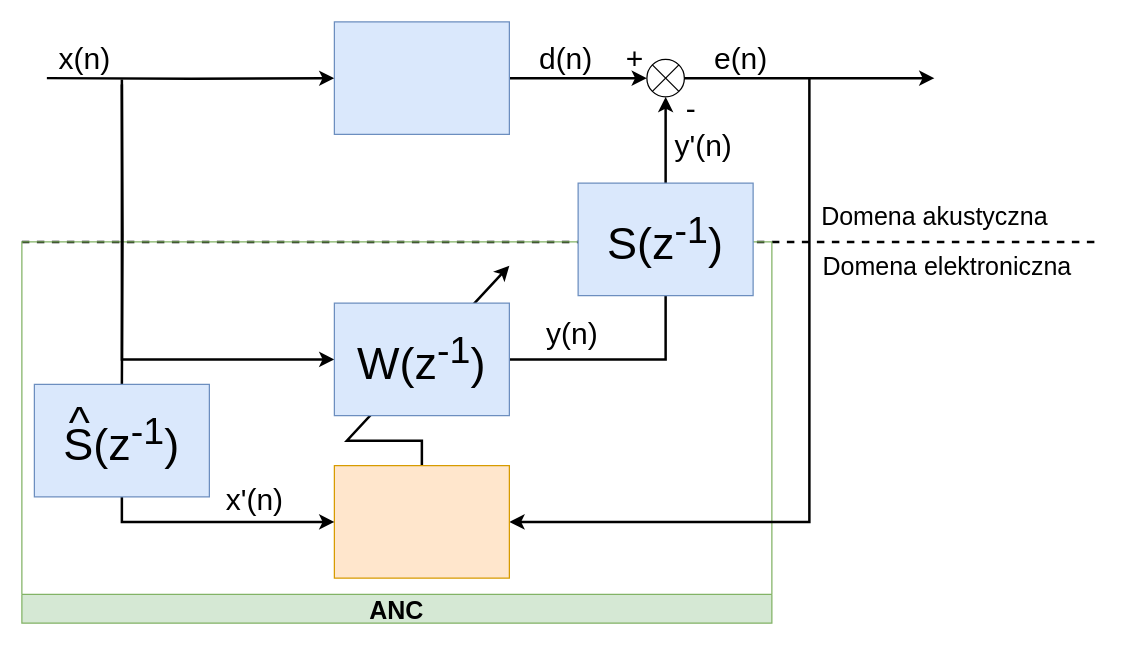
Image size: 1121x645. Some labels were removed from this diagram. Here are the shapes that lost their labels. From the top down, the centre of each, then its label:
[421,77]: P(z -1 )
[421,521]: NLMS
